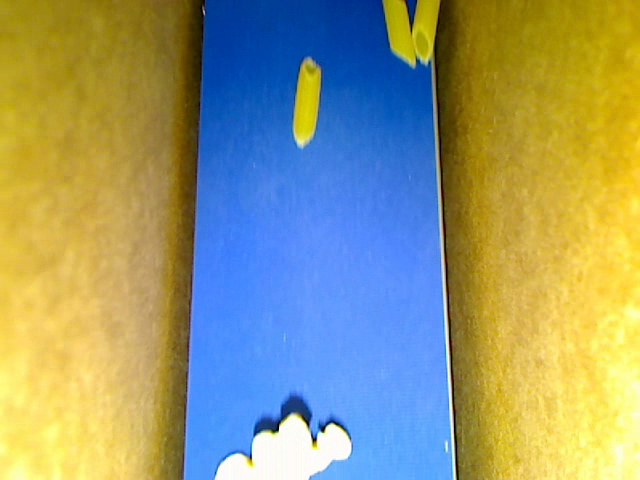penne: (292, 54, 321, 149), (383, 1, 416, 68), (411, 1, 441, 67)
